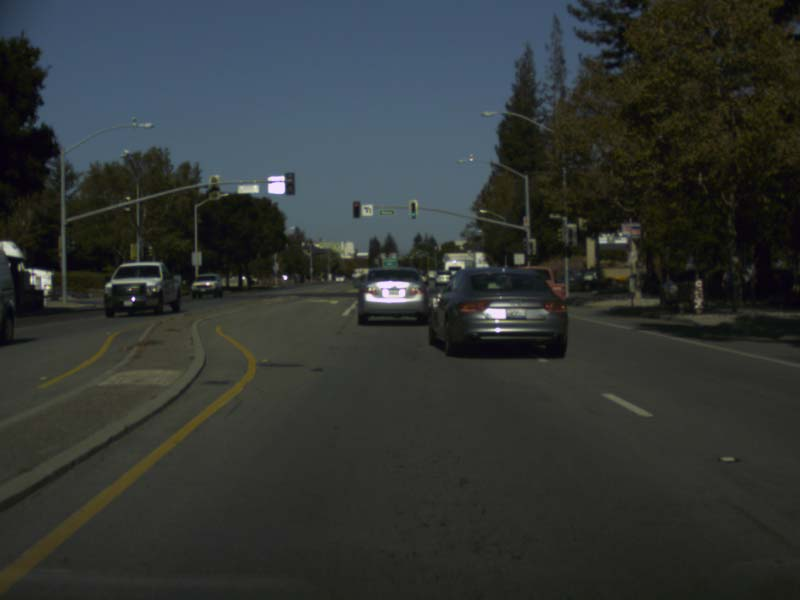Green: (563, 223, 577, 246), (408, 199, 418, 218)
Red: (353, 201, 360, 217)
